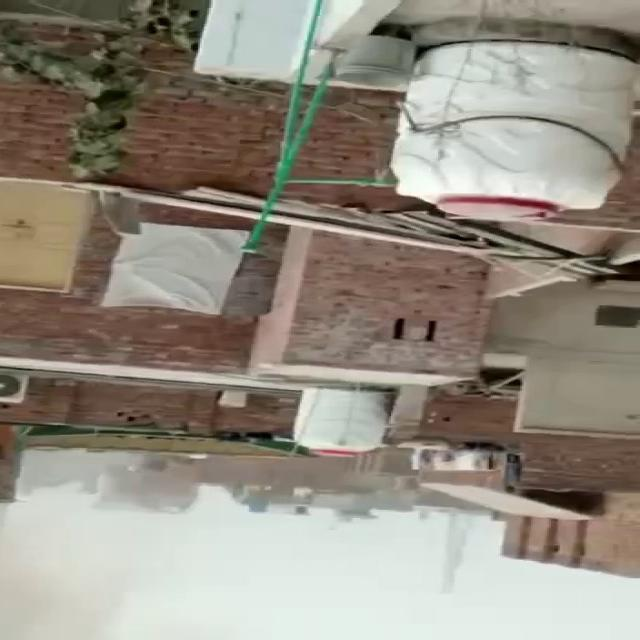Smoke: (16, 510, 311, 590)
